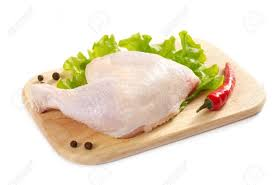Chicken: (34, 86, 183, 121)
